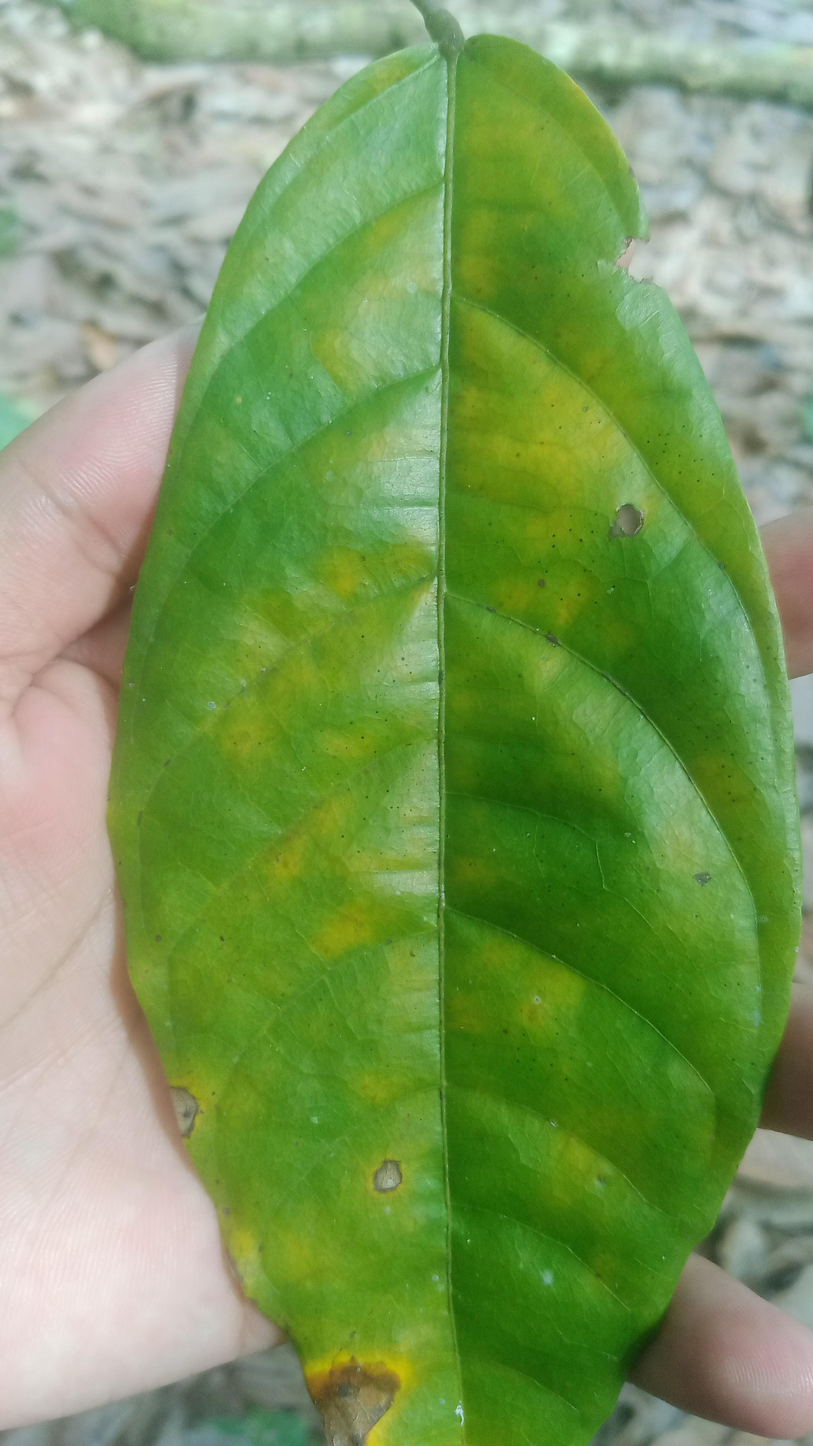deficiencia_potasio: (105, 1, 813, 1446)
